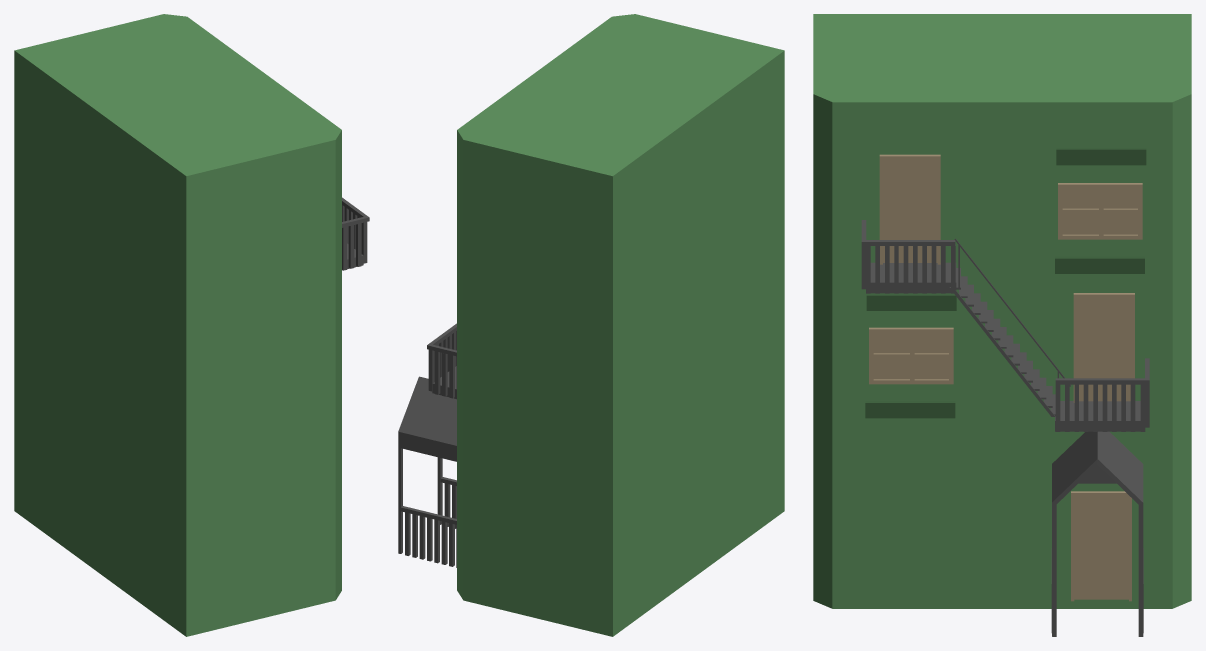
Rendered from Building.fbx.
The picture shows the model from 3 angles, left to right: view 1: azimuth 30°, elevation 25°; view 2: azimuth 150°, elevation 25°; view 3: azimuth 270°, elevation 25°; orthographic projection. The views are drawn at different scales.
Parts seen in each view (by area): view 1: Bilding; view 2: Bilding, pCube39; view 3: Bilding, Door2, Door1, Door, pCube39, Window, Window1, pCube84, pCube86, pCube85, pCube83, pCube80 (+3 smaller).
Part boxes in pixels (<box>): Bilding: <box>14,14,341,636</box>; Bilding: <box>457,14,784,636</box>; pCube39: <box>398,376,456,553</box>; Bilding: <box>813,14,1191,608</box>; Door2: <box>1071,491,1131,601</box>; Door1: <box>879,154,940,264</box>; Door: <box>1073,293,1134,402</box>; pCube39: <box>1052,431,1143,636</box>; Window: <box>869,327,953,384</box>; Window1: <box>1058,183,1142,239</box>; pCube84: <box>865,401,955,418</box>; pCube86: <box>1056,148,1146,165</box>; pCube85: <box>866,293,956,310</box>; pCube83: <box>1055,256,1144,273</box>; pCube80: <box>870,262,956,293</box>.
Bounding box in the file's own units: 12.92 × 24.04 × 16.26.
